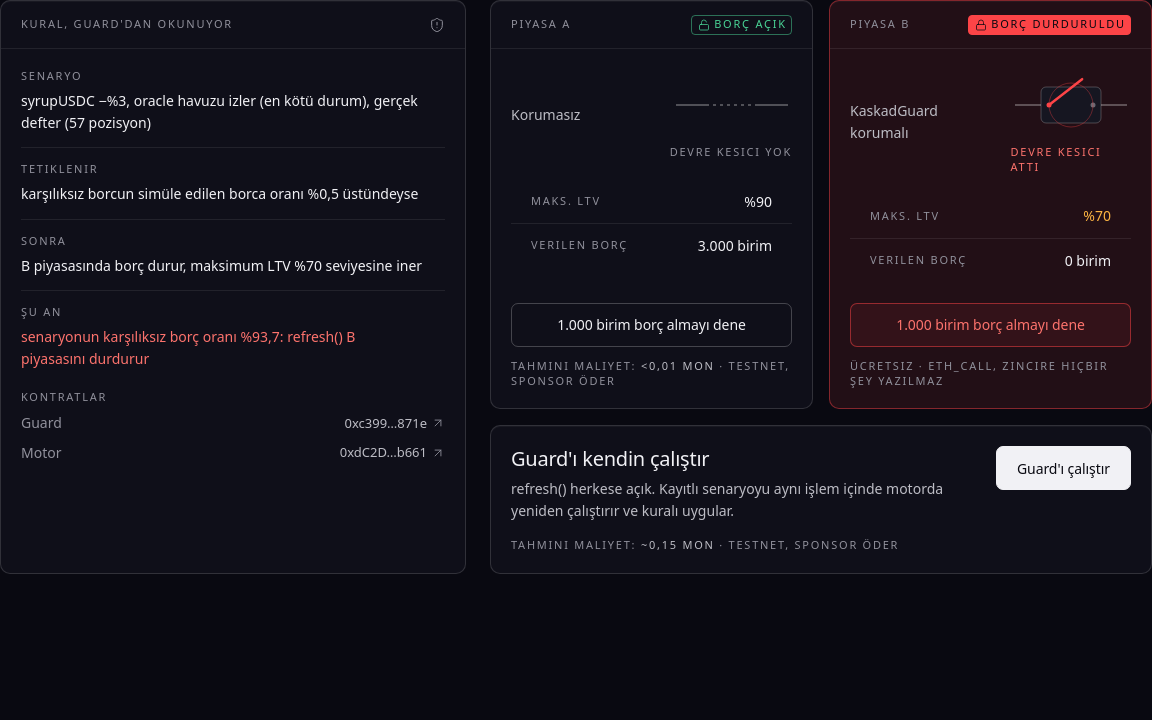
Test case: GuardLive › runs the Guard and reports the decoded decision
Click the button "Guard'ı çalıştır": point(1064, 468) [996,446,1131,490]
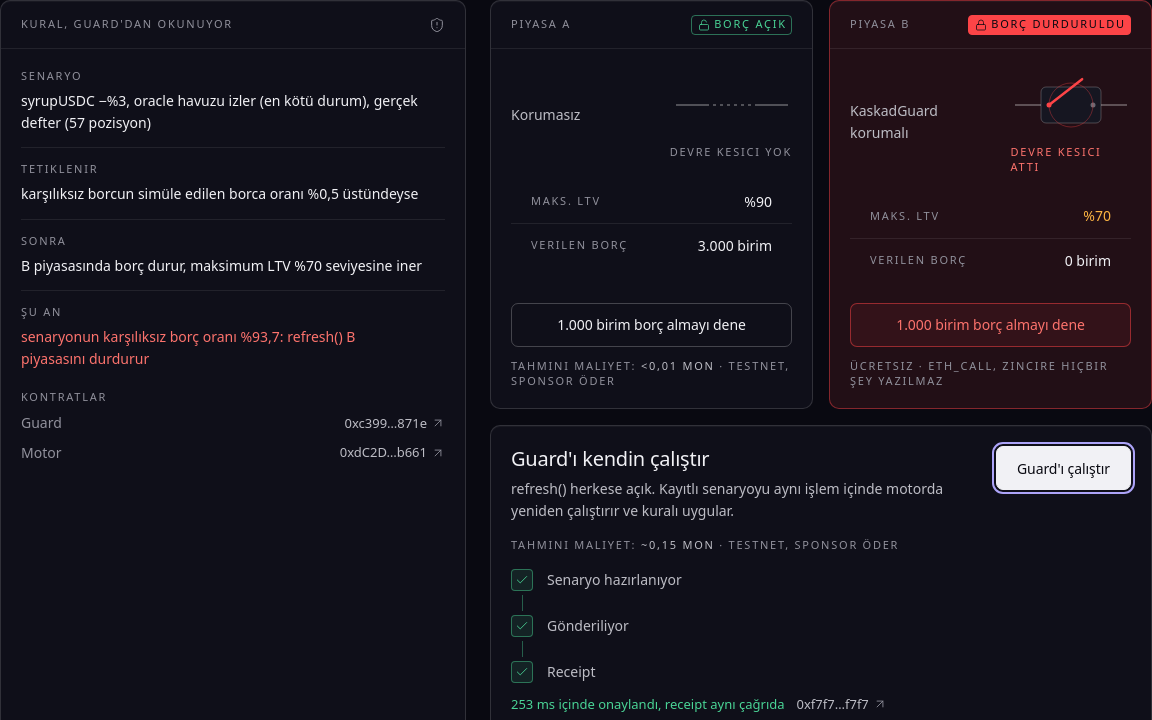
Expected: the text "253 ms içinde onaylandı, receipt aynı çağrıda" is shown, [511,695,784,713]
